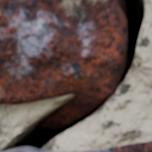brick: (0, 0, 123, 103), (92, 142, 151, 151), (6, 147, 44, 151)
crack: (2, 0, 150, 151)
